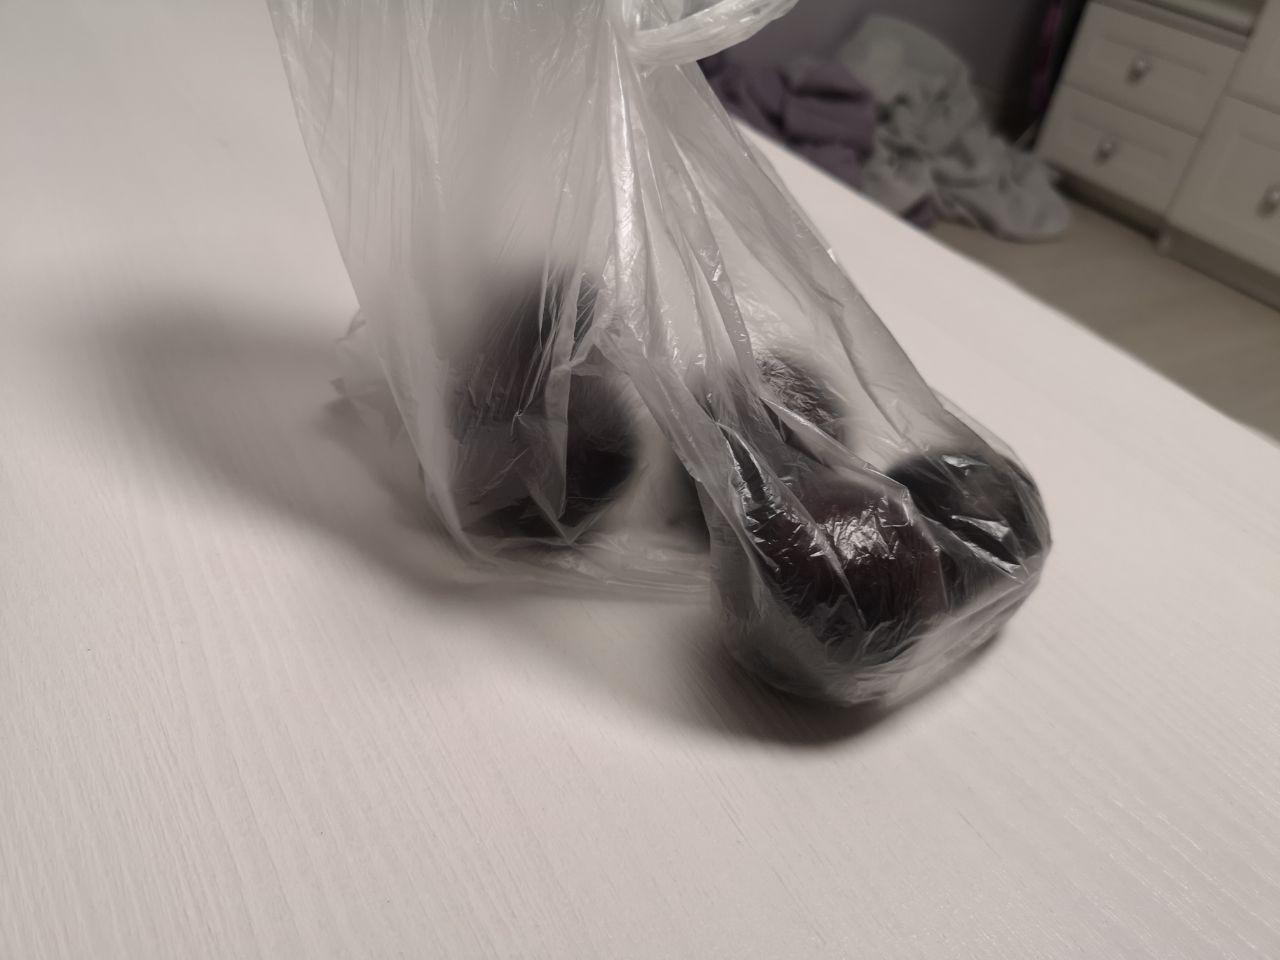plum: (317, 185, 1131, 758)
